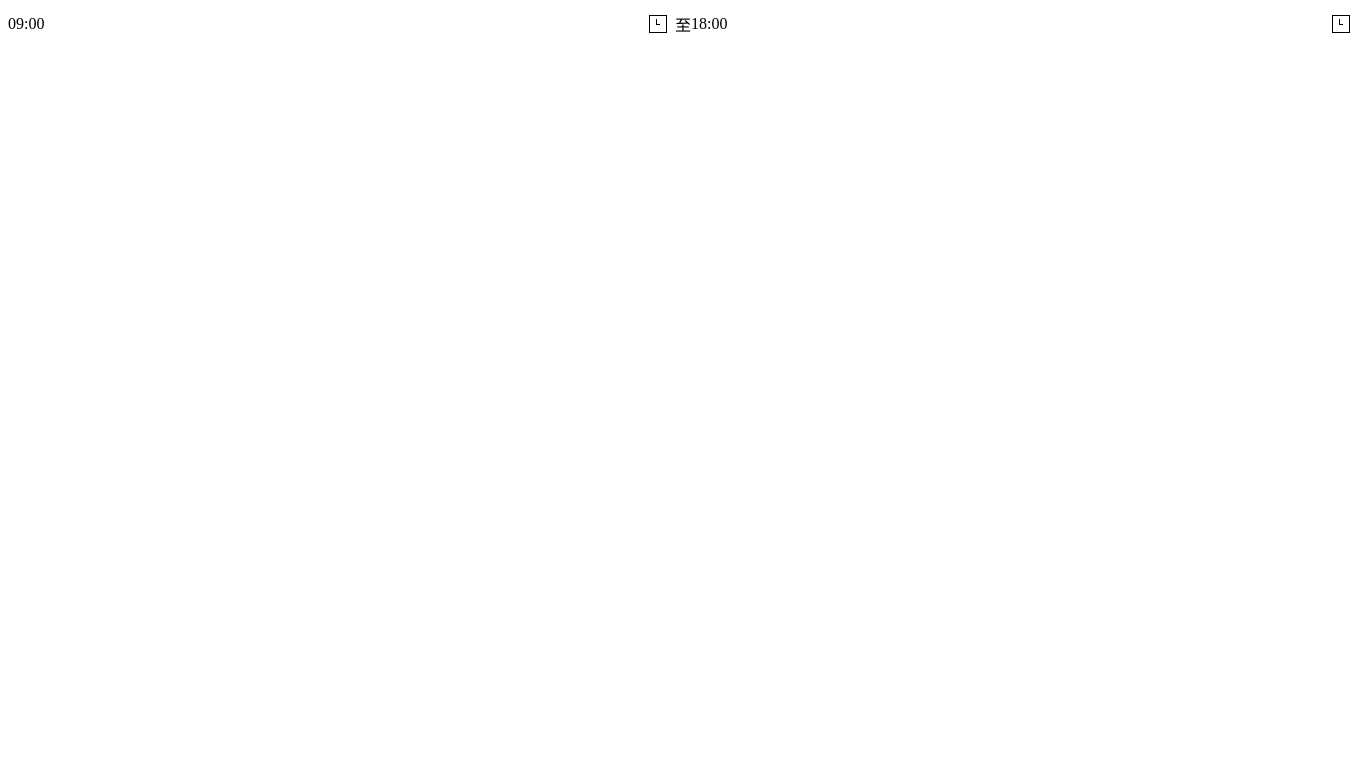
Test case: TimeRangePicker › 支持分钟格式和步进
The image size is (1366, 768).
Click the 1st button with class "su-time-picker__trigger".
click(658, 24)  # box [641,8,675,40]
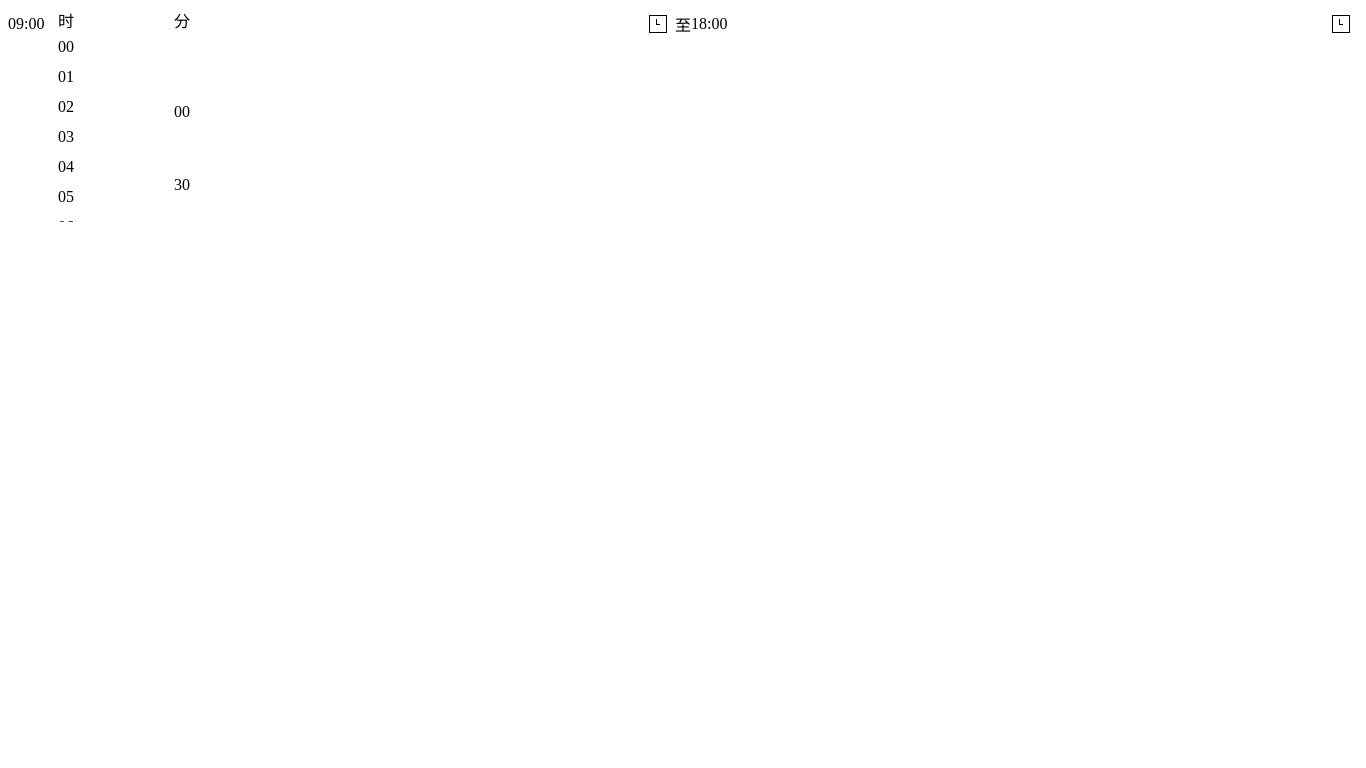
Expected: the number of elements with class "su-time-picker__column" is 2, [8,8,124,222]; [124,8,240,222]
Expected: the elements with class "su-time-picker__option" read "00", "30", in this order, [124,75,240,149]; [124,149,240,222]
